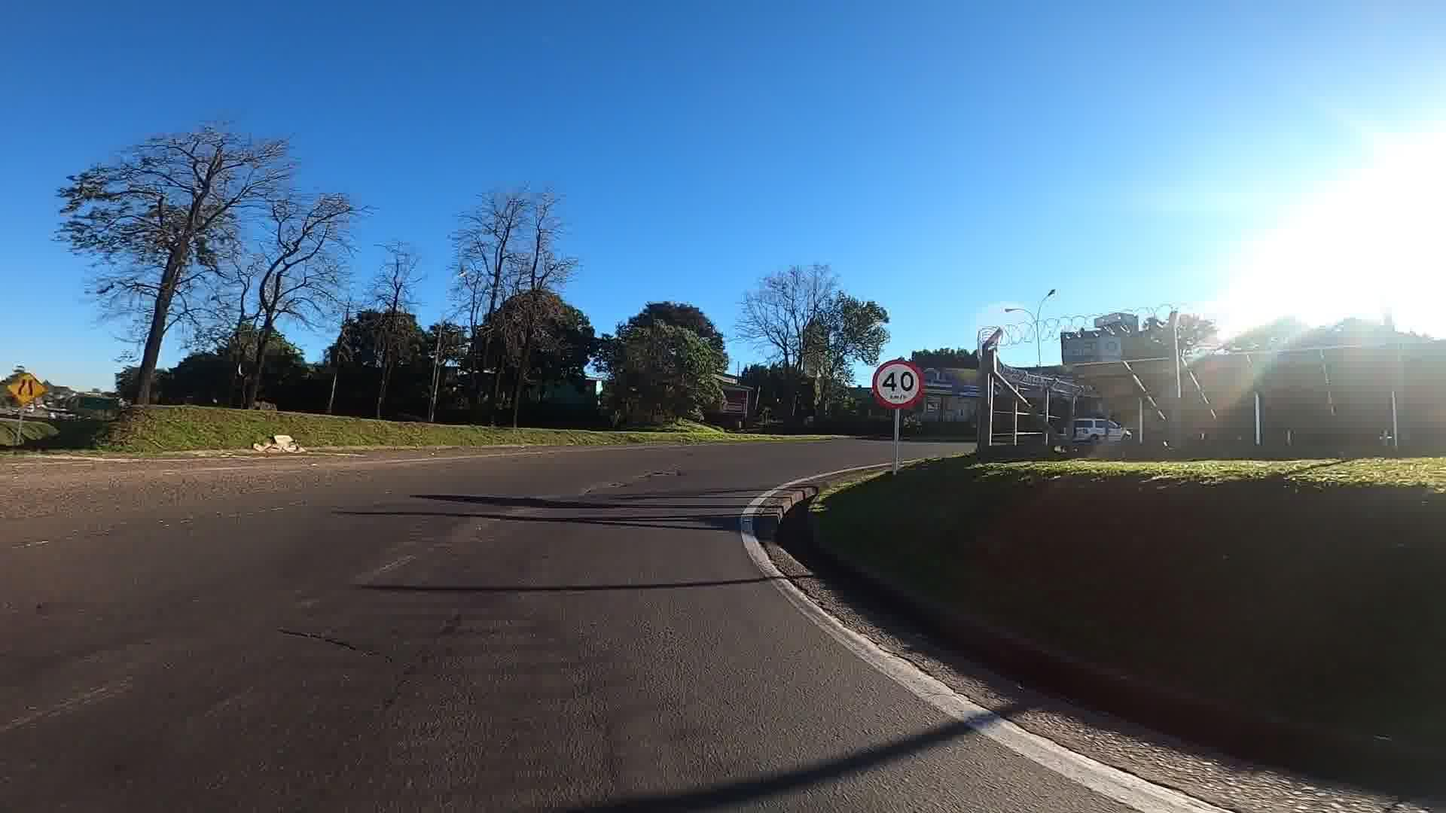R-19: (871, 360, 928, 412)
